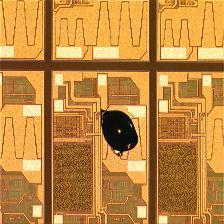PARTICLE: (99, 108, 142, 155)
